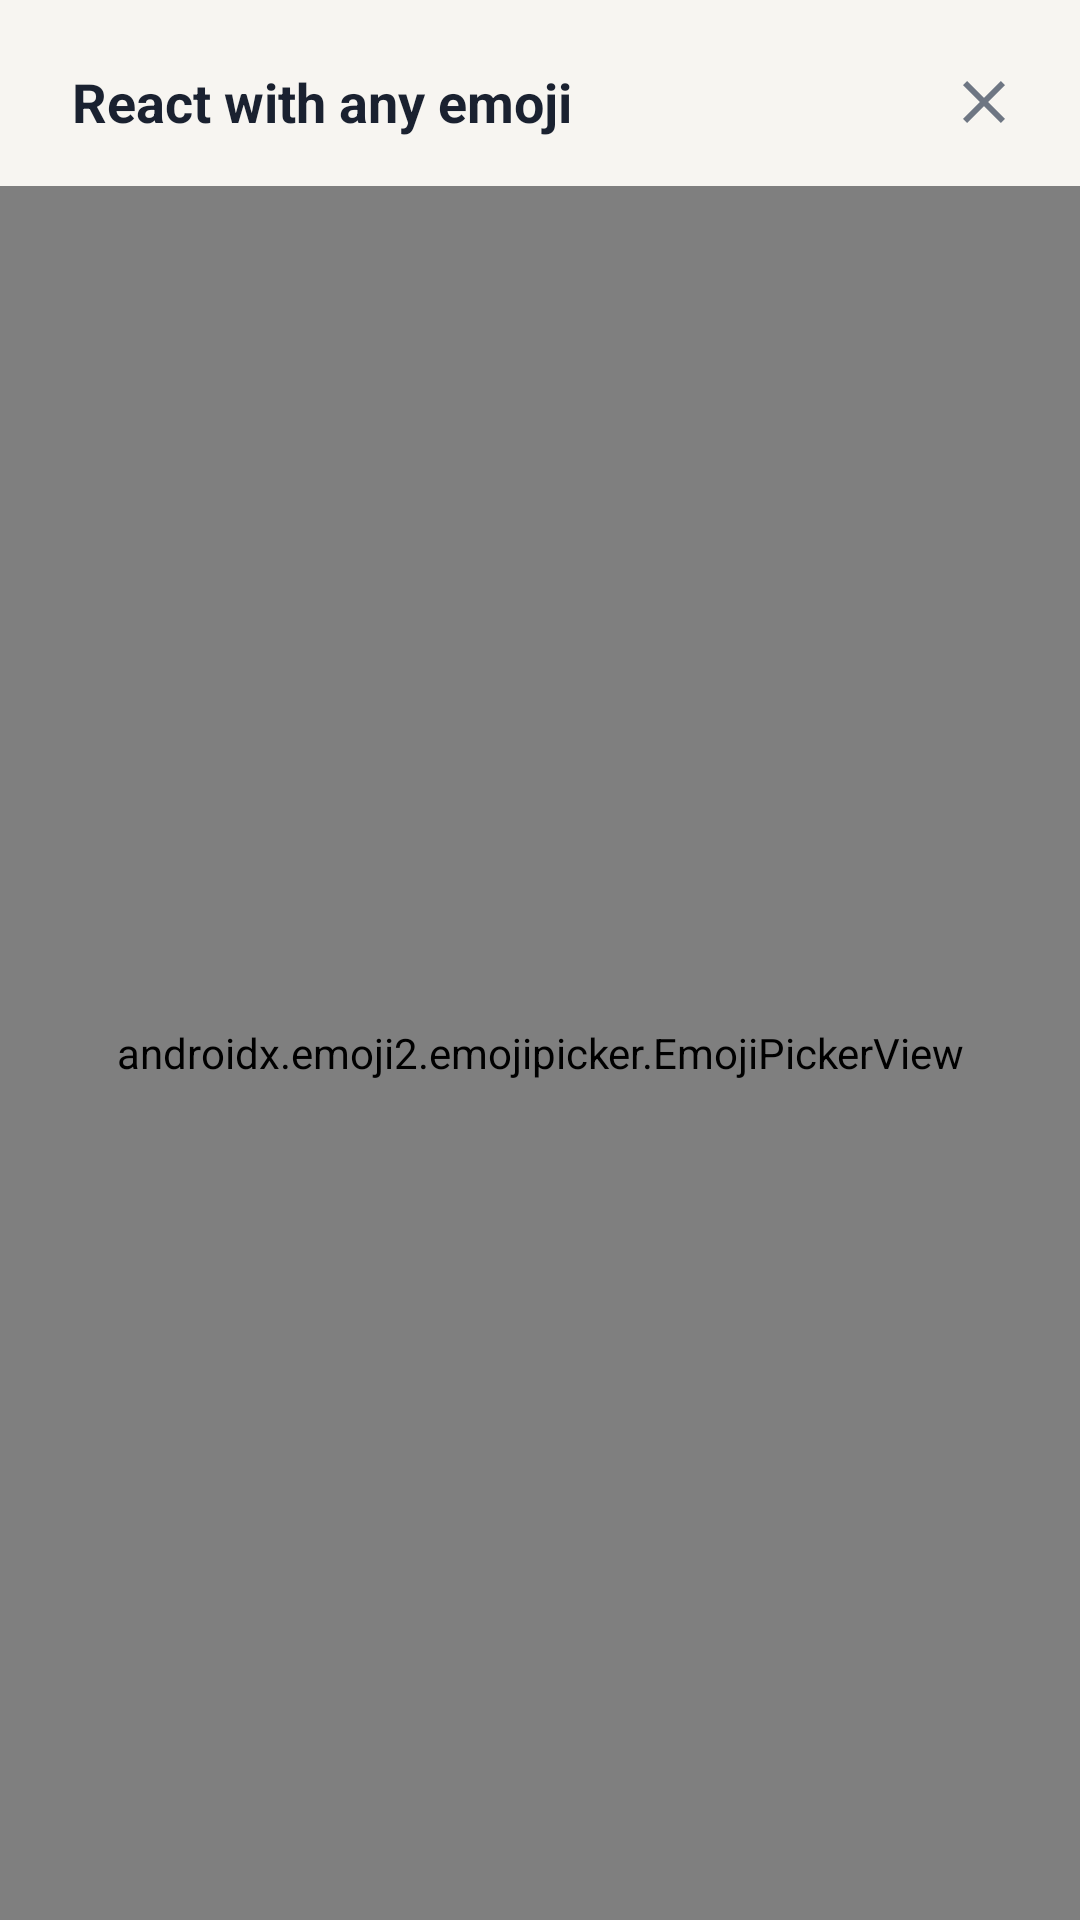

Screen size 1080x1920. Icon name, then its box in pixels as (x1,y1,x2,y2):
Cancel: (963,81,1005,123)
